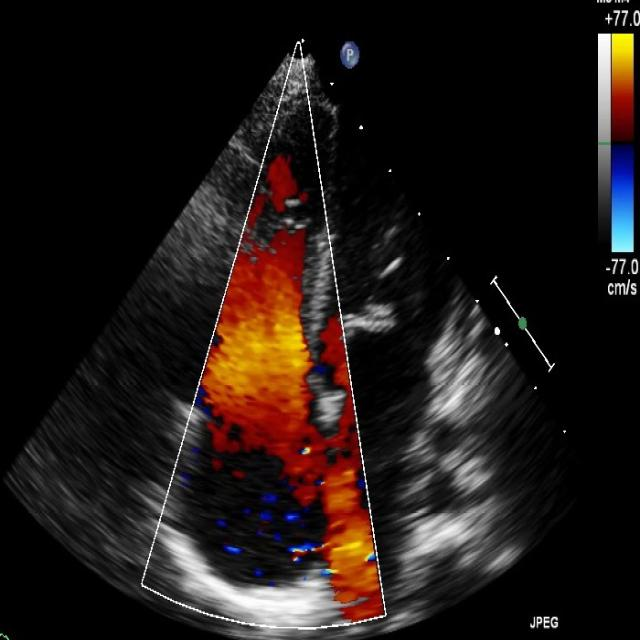ASDType2: (204, 396, 388, 619)
